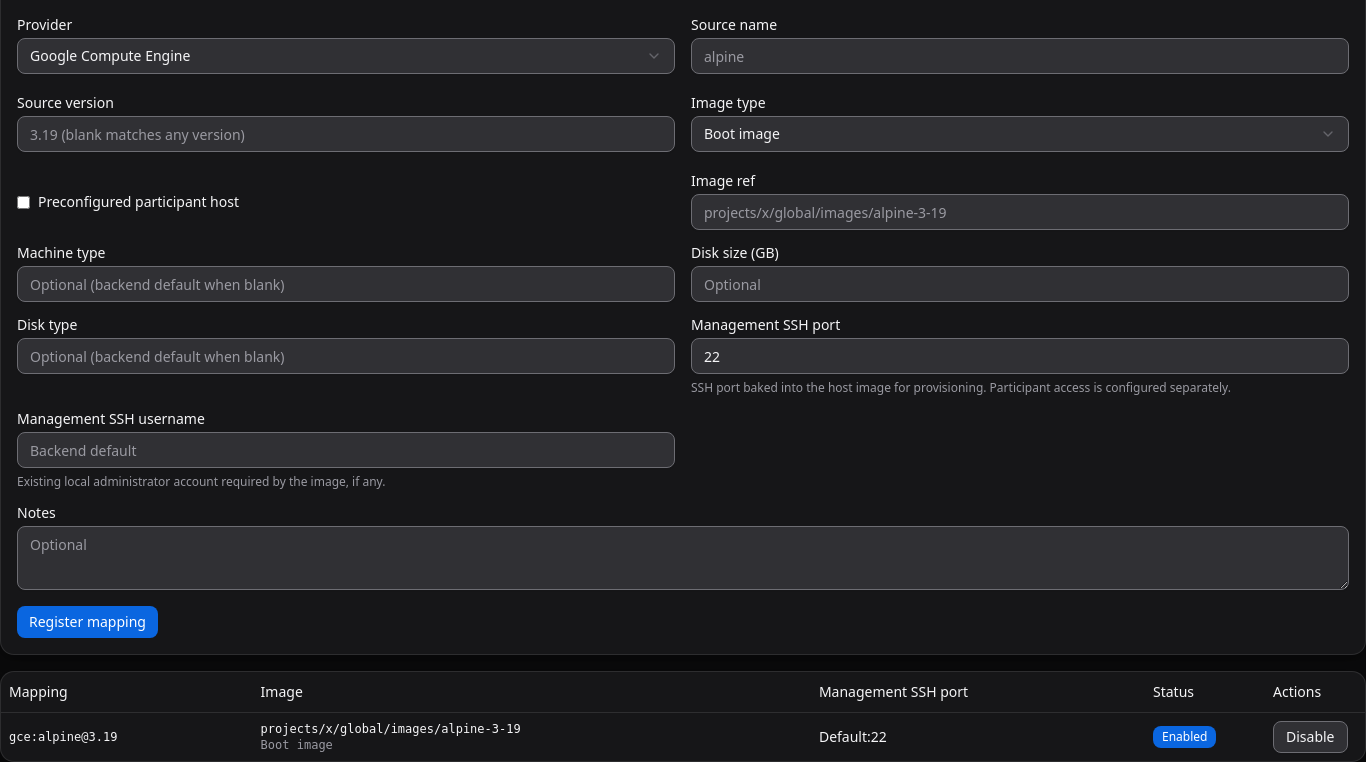
Test: RaesImageRegistryPage › disables a mapping through the API
The width and height of the screenshot is (1366, 762).
(page scrolled)
Click the button "Disable": (1310, 736) [1273,720,1348,752]
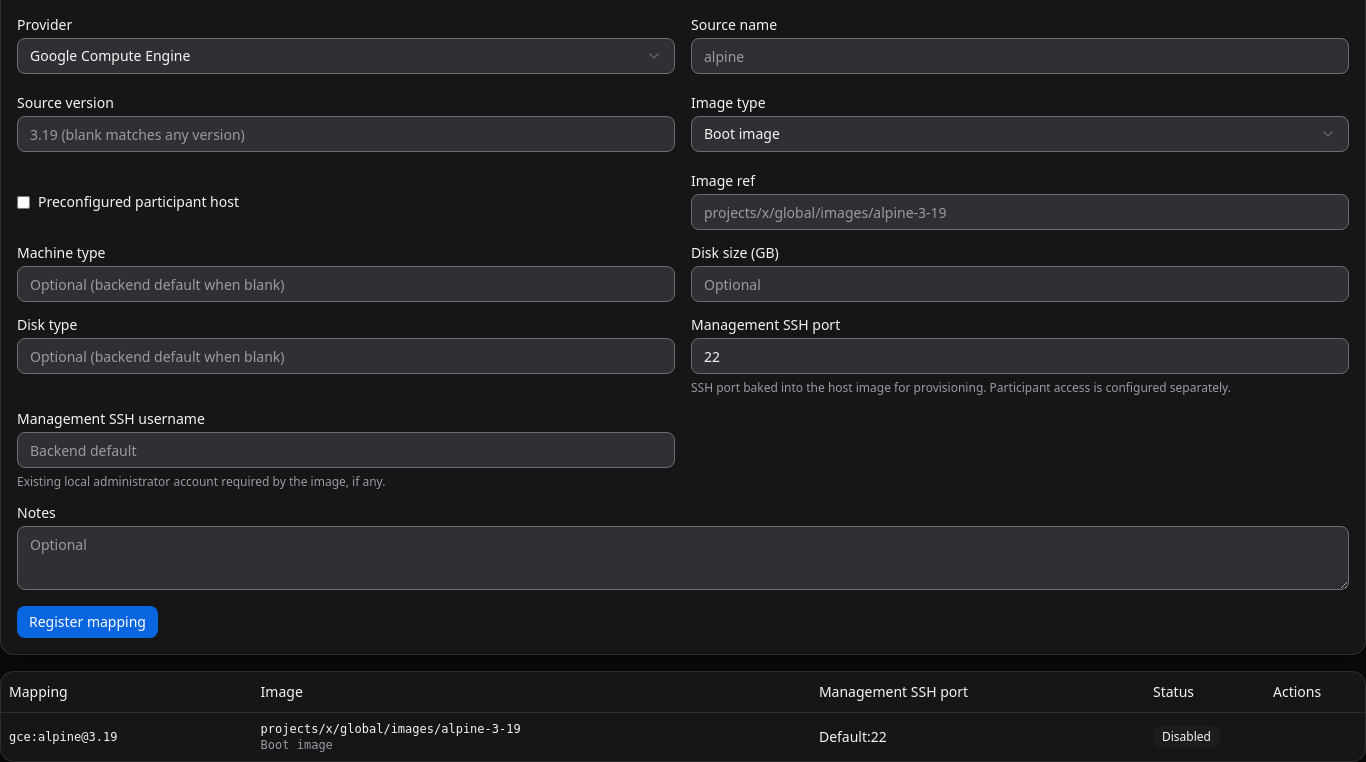
Expected: the text "Disabled" is shown, [1153,726,1220,748]
